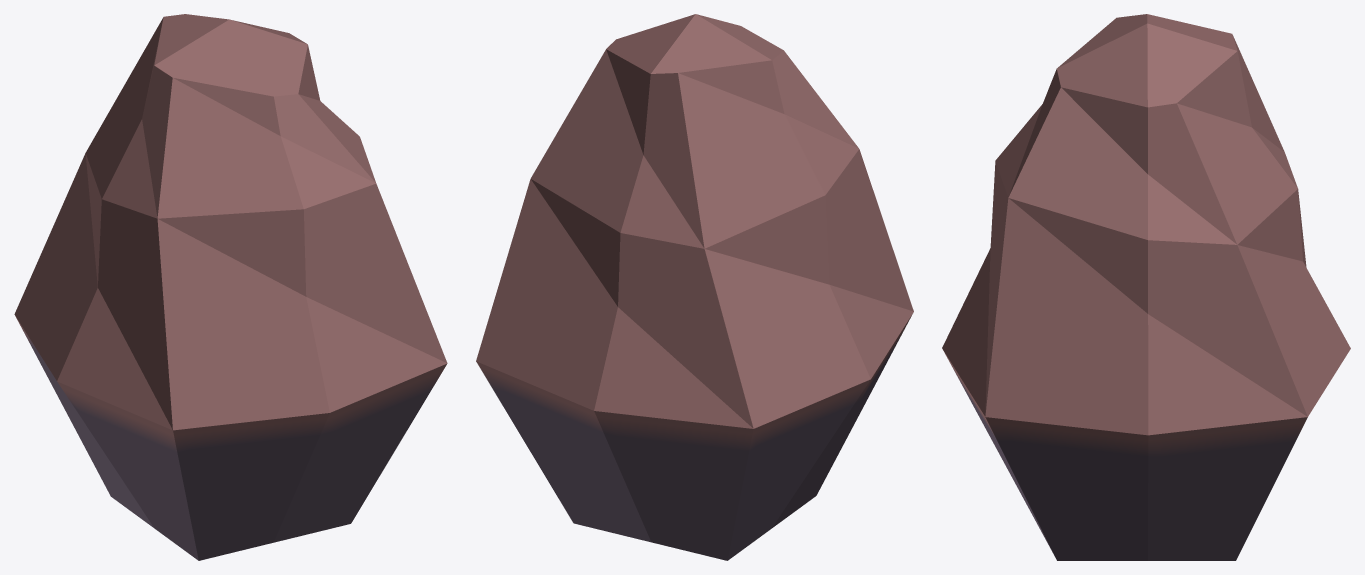
File: Roca2.fbx
3 renders of one model, left to right at view 1: azimuth 30°, elevation 25°; view 2: azimuth 150°, elevation 25°; view 3: azimuth 270°, elevation 25°, orthographic.
Parts seen in each view (by area): view 1: Cube; view 2: Cube; view 3: Cube.
Boxes of the visible parts, <box> form: Cube: <box>14,14,447,560</box>; Cube: <box>476,14,913,560</box>; Cube: <box>942,14,1350,560</box>.
Size of the model in its own units: 457 by 616 by 457.
1 material, 1 textured.
